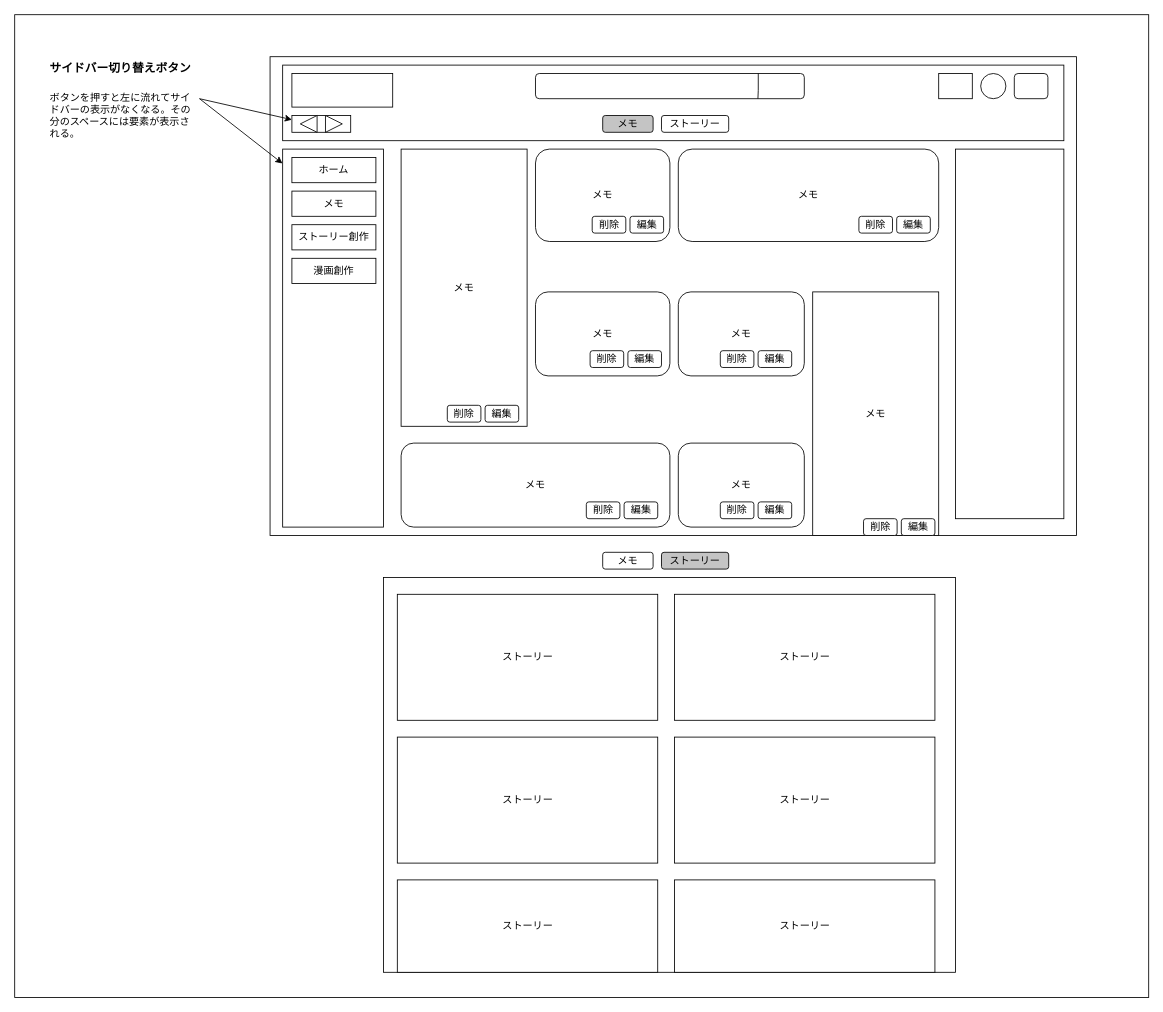
The diagram is 1163 pixels wide and 1012 high, and some of its shapes have lost their labels. Here are the shapes that lost their labels. From the top down, the box of each, then its label:
(291, 73, 393, 107): LOGO
(938, 73, 972, 99): 設定
(980, 73, 1006, 99): アイコン
(1013, 73, 1048, 99): ログアウト
(955, 148, 1064, 519): 広告
